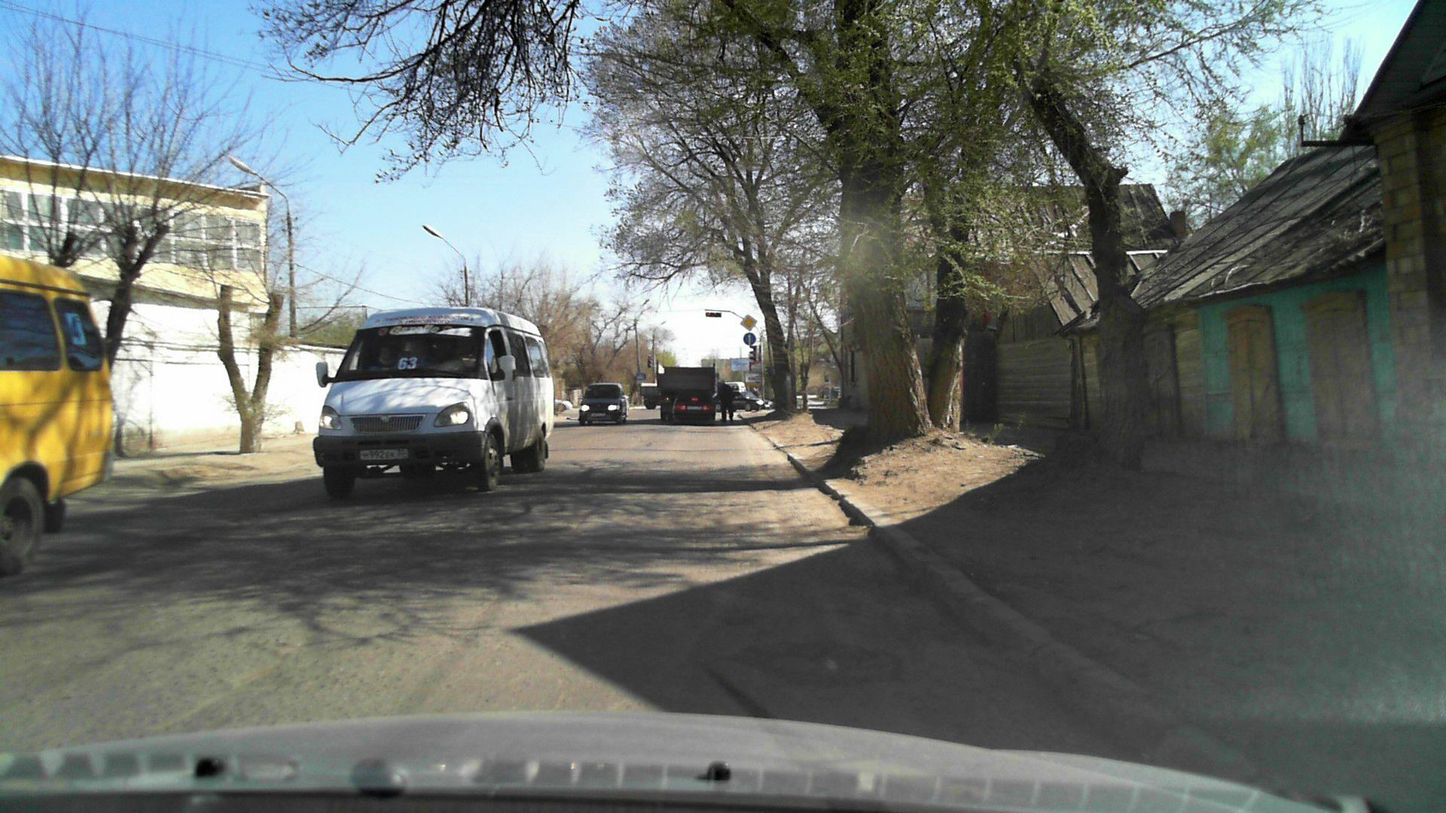off traffic light: (749, 346, 757, 361)
road_sign: (739, 314, 758, 331), (743, 332, 757, 345)
traffic light: (705, 312, 722, 317)
